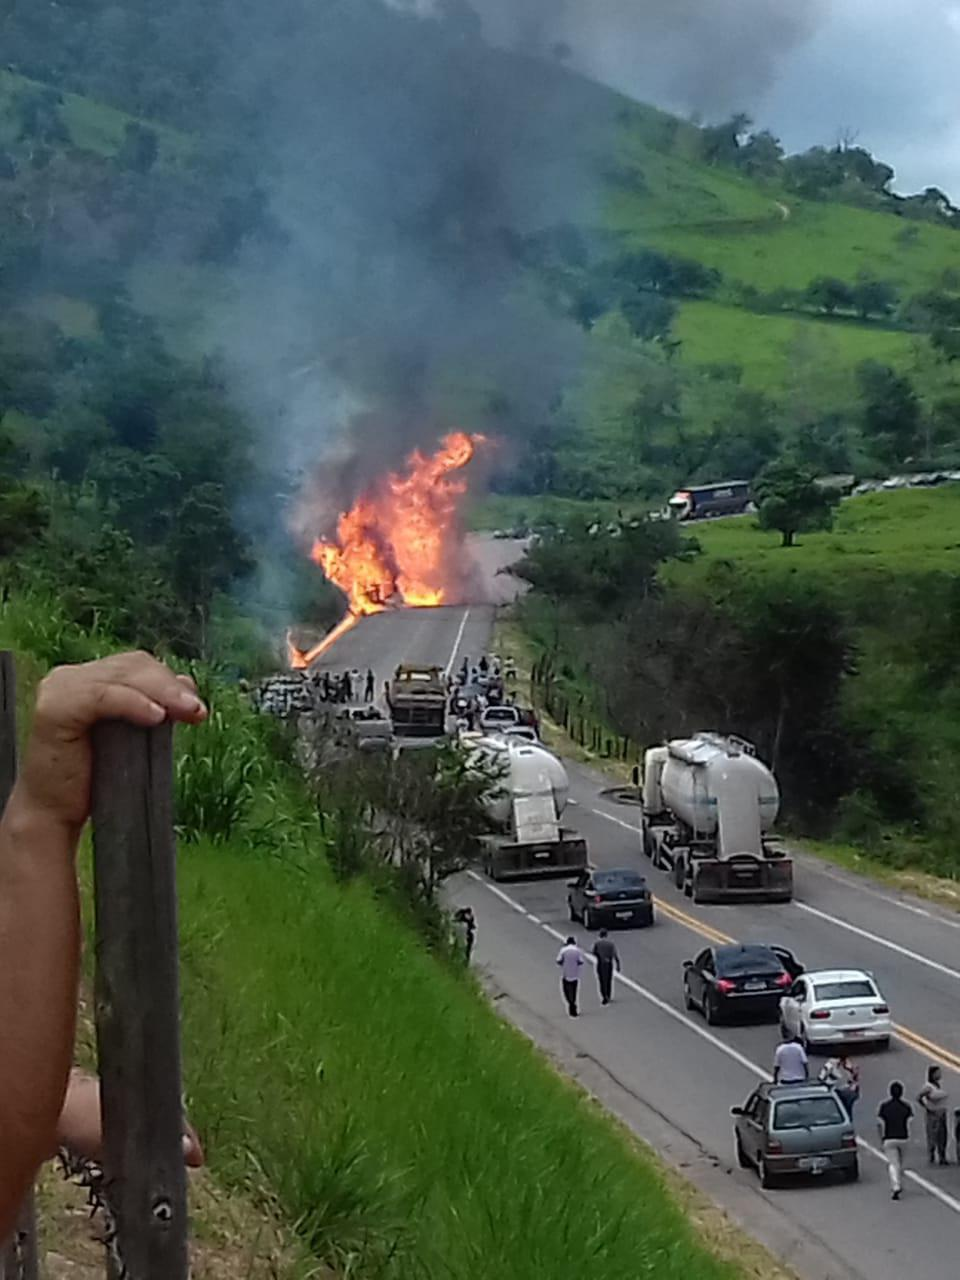Fire: (288, 430, 488, 668)
